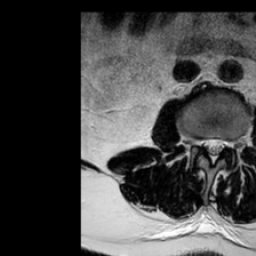CCS_normal: (208, 128, 216, 171)
LFS_normal: (226, 128, 234, 155)
LLS_normal: (216, 128, 226, 159)
RFS_normal: (192, 127, 200, 155)
RLS_normal: (200, 131, 208, 158)
